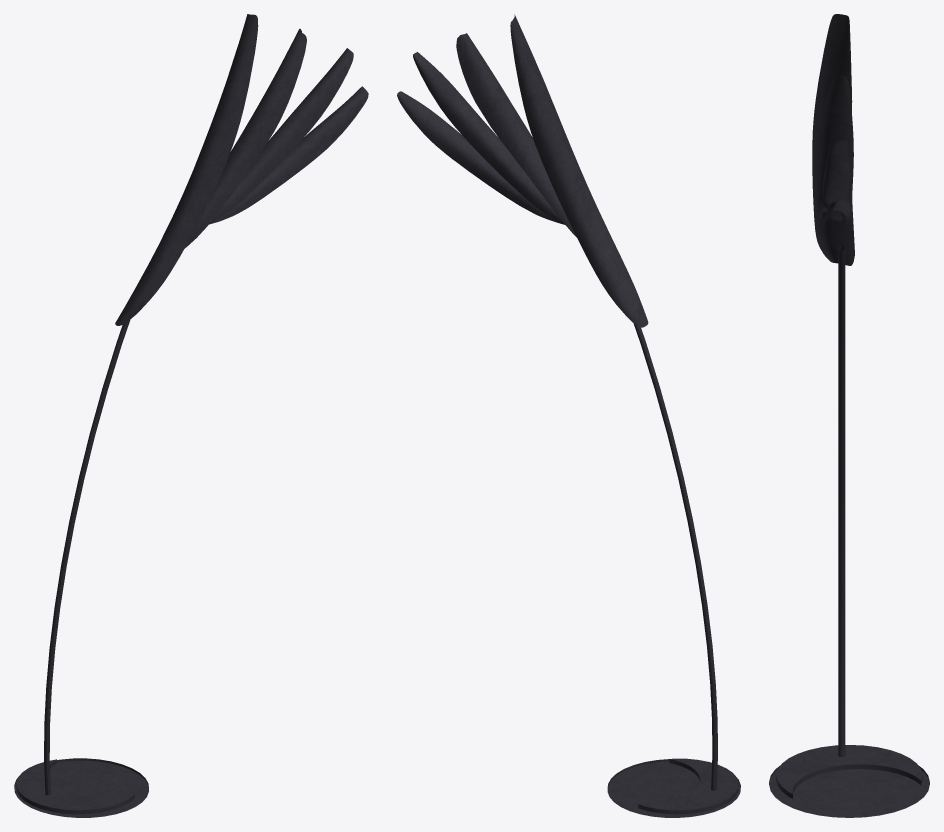
File: Flou-ebonylamp.glb
The picture shows the model from 3 angles, left to right: view 1: azimuth 30°, elevation 25°; view 2: azimuth 150°, elevation 25°; view 3: azimuth 270°, elevation 25°; orthographic projection. The views are drawn at different scales.
Visible parts, largest first — view 1: Cylinder.002; view 2: Cylinder.002; view 3: Cylinder.002.
Boxes of the visible parts, x1,y1,x2,y2 form: Cylinder.002: (14, 14, 368, 817); Cylinder.002: (397, 14, 740, 817); Cylinder.002: (769, 14, 929, 817).
Bounding box in the file's own units: 1 × 2.08 × 0.35.
1 material, 1 textured.
